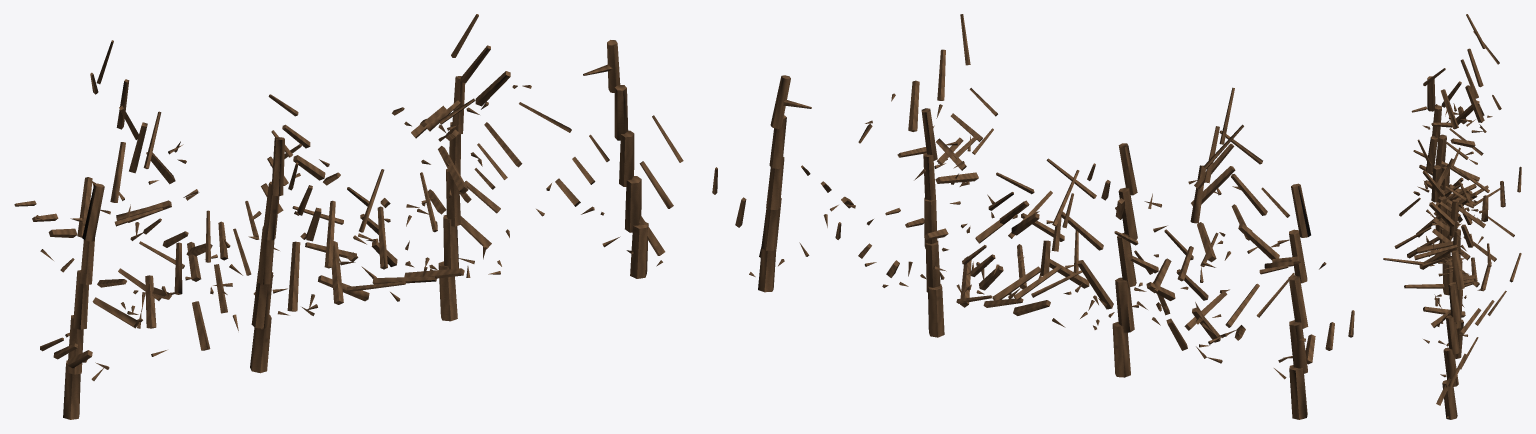
The model's file is thorn.glb.
3 renders of one model, left to right at view 1: azimuth 30°, elevation 25°; view 2: azimuth 150°, elevation 25°; view 3: azimuth 270°, elevation 25°, orthographic. The views are drawn at different scales.
Parts seen in each view (by area): view 1: thorn; view 2: thorn; view 3: thorn.
Boxes of the visible parts, box(x1,y1,x2,y2) form: thorn: box(14, 14, 683, 419); thorn: box(712, 14, 1354, 419); thorn: box(1383, 14, 1521, 419).
Size of the model in its own units: 4.66 by 2.35 by 1.25.
1 material, 1 textured.
